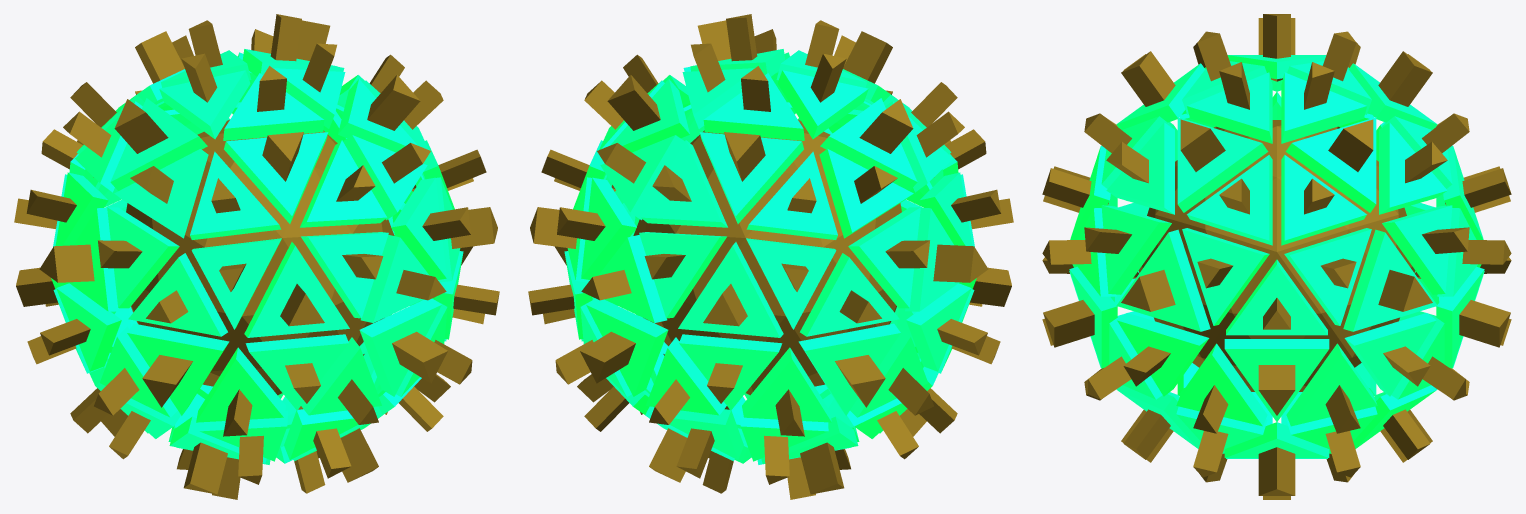
File: item03.fbx
3 renders of one model, left to right at view 1: azimuth 30°, elevation 25°; view 2: azimuth 150°, elevation 25°; view 3: azimuth 270°, elevation 25°, orthographic.
Parts seen in each view (by area): view 1: Icosphere; view 2: Icosphere; view 3: Icosphere.
Boxes of the visible parts, x1,y1,x2,y2 form: Icosphere: (14,14,499,499); Icosphere: (528,14,1013,499); Icosphere: (1042,14,1511,499).
Bounding box in the file's own units: 140 × 138 × 136.
